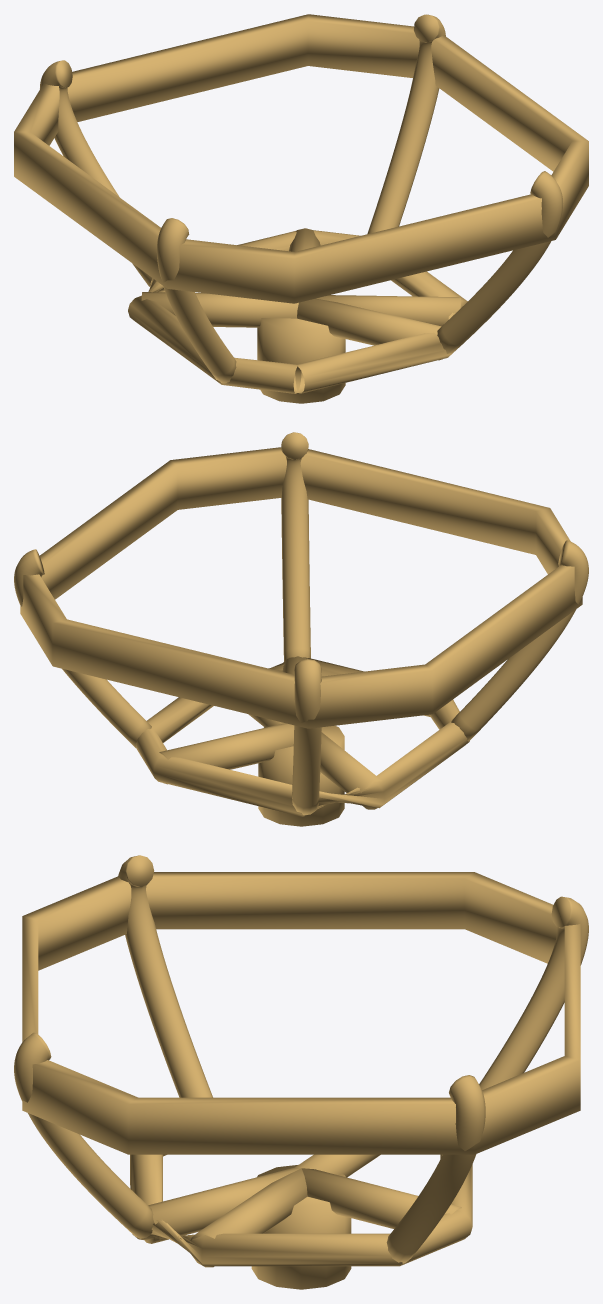
Rendered from stuller-lg-500104790-bezel.glb.
3 renders of one model, top to bottom at view 1: azimuth 30°, elevation 25°; view 2: azimuth 150°, elevation 25°; view 3: azimuth 270°, elevation 25°, orthographic. The views are drawn at different scales.
Parts seen in each view (by area): view 1: Metal.301, Metal.296, Metal.302, Metal.305, Metal.304, Metal.295, Metal.300, Metal.303, Metal.299, Metal.297, Metal.298; view 2: Metal.301, Metal.296, Metal.305, Metal.304, Metal.303, Metal.298, Metal.302, Metal.295, Metal.299; view 3: Metal.301, Metal.296, Metal.304, Metal.305, Metal.302, Metal.303, Metal.295, Metal.298, Metal.300, Metal.297, Metal.299.
Part boxes in pixels (box(x1,y1,x2,y2)): Metal.301: box(14, 14, 588, 303); Metal.296: box(128, 230, 467, 393); Metal.302: box(367, 14, 445, 233); Metal.305: box(437, 171, 562, 354); Metal.304: box(156, 218, 236, 383); Metal.295: box(257, 318, 345, 403); Metal.300: box(297, 298, 442, 360); Metal.303: box(40, 60, 151, 286); Metal.299: box(141, 292, 298, 327); Metal.297: box(316, 295, 461, 326); Metal.298: box(289, 228, 320, 251); Metal.301: box(20, 447, 582, 728); Metal.296: box(135, 658, 469, 816); Metal.305: box(281, 432, 310, 661); Metal.304: box(451, 540, 588, 741); Metal.303: box(292, 659, 321, 815); Metal.298: box(159, 723, 294, 784); Metal.302: box(14, 549, 151, 747); Metal.295: box(258, 725, 344, 826); Metal.299: box(320, 732, 382, 809); Metal.301: box(22, 872, 580, 1154); Metal.296: box(130, 1154, 472, 1266); Metal.304: box(118, 855, 212, 1097); Metal.305: box(14, 1032, 153, 1238); Metal.302: box(386, 1075, 485, 1263); Metal.303: box(479, 896, 588, 1089); Metal.295: box(251, 1165, 351, 1289); Metal.298: box(301, 1168, 461, 1228); Metal.300: box(145, 1167, 300, 1243); Metal.297: box(190, 1168, 307, 1267); Metal.299: box(295, 1154, 380, 1177).
Size of the model in its own units: 6.81 by 4.02 by 6.91.
